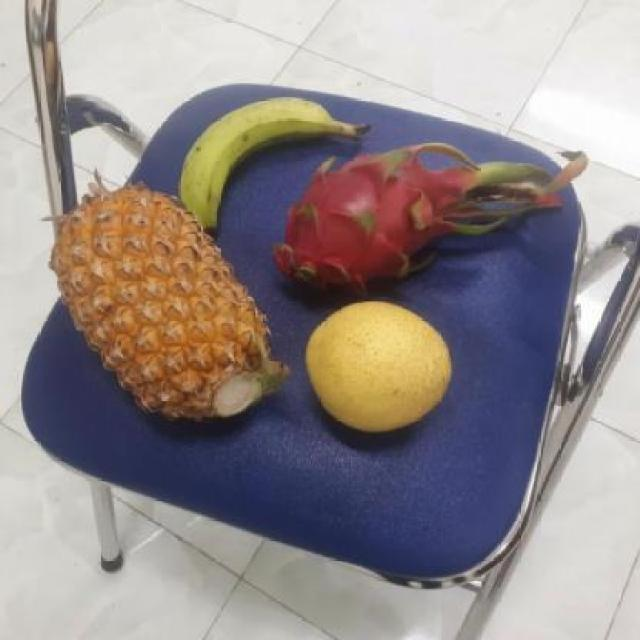banana: (175, 98, 350, 239)
dragon fruit: (270, 145, 468, 304)
pear: (300, 306, 454, 436)
pineapple: (53, 189, 285, 428)
